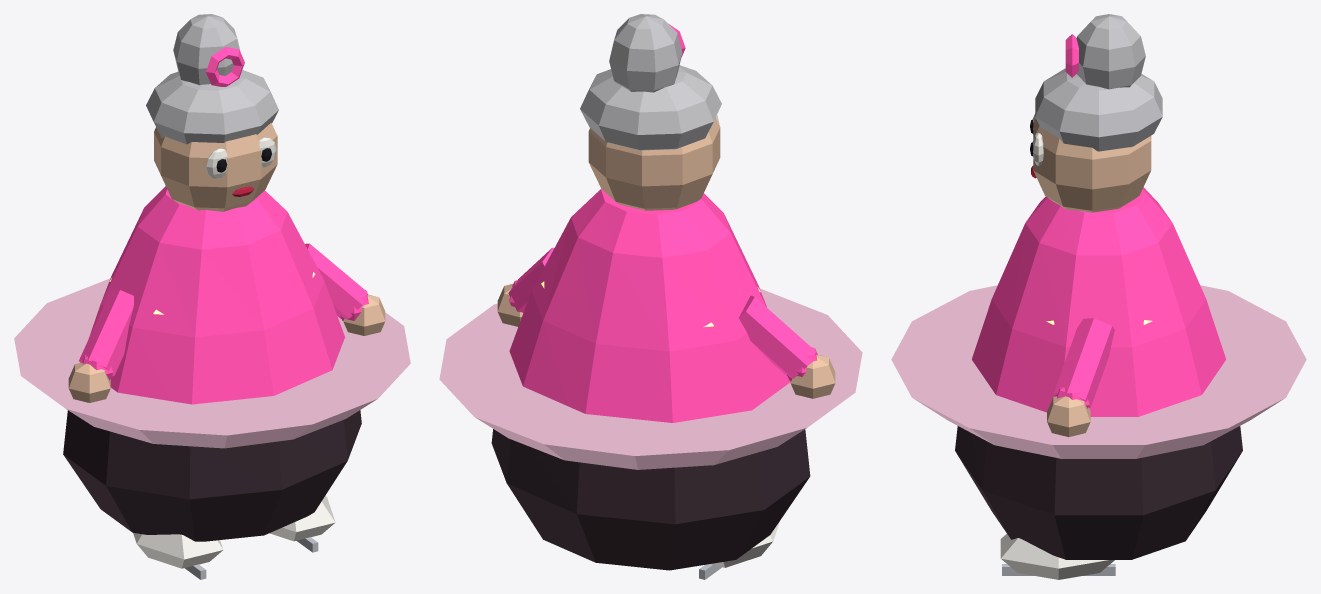
The model's file is npc_dona_pirueta.glb.
The picture shows the model from 3 angles, left to right: view 1: azimuth 30°, elevation 25°; view 2: azimuth 150°, elevation 25°; view 3: azimuth 270°, elevation 25°; orthographic projection. The views are drawn at different scales.
Parts seen in each view (by area): view 1: body_pirueta_leotard, body_pirueta_tights, body_pirueta_tutu, hair_pirueta_hair, head_skin_clara, arms_pirueta_leotard, legs_pirueta_skate, arms_skin_clara, hair_pirueta_leotard, face_white; view 2: body_pirueta_leotard, body_pirueta_tights, body_pirueta_tutu, hair_pirueta_hair, head_skin_clara, arms_pirueta_leotard, arms_skin_clara, legs_pirueta_skate; view 3: body_pirueta_leotard, body_pirueta_tutu, body_pirueta_tights, hair_pirueta_hair, head_skin_clara, arms_pirueta_leotard, legs_pirueta_skate, arms_skin_clara.
Part boxes in pixels (x1,y1,x2,y2): body_pirueta_leotard: (89, 186, 344, 404); body_pirueta_tights: (63, 410, 361, 541); body_pirueta_tutu: (14, 278, 410, 448); hair_pirueta_hair: (146, 14, 278, 144); head_skin_clara: (154, 123, 277, 211); arms_pirueta_leotard: (79, 243, 368, 380); legs_pirueta_skate: (133, 495, 335, 568); arms_skin_clara: (68, 294, 385, 402); hair_pirueta_leotard: (206, 47, 244, 86); face_white: (206, 137, 276, 178); body_pirueta_leotard: (509, 189, 790, 422); body_pirueta_tights: (491, 429, 810, 570); body_pirueta_tutu: (439, 288, 862, 469); hair_pirueta_hair: (580, 14, 721, 150); head_skin_clara: (588, 117, 720, 210); arms_pirueta_leotard: (508, 247, 817, 380); arms_skin_clara: (497, 284, 835, 398); legs_pirueta_skate: (711, 521, 779, 567); body_pirueta_leotard: (972, 187, 1225, 416); body_pirueta_tutu: (891, 285, 1306, 458); body_pirueta_tights: (955, 426, 1242, 559); hair_pirueta_hair: (1035, 14, 1162, 151); head_skin_clara: (1033, 118, 1151, 212); arms_pirueta_leotard: (1054, 318, 1114, 408); legs_pirueta_skate: (1000, 534, 1114, 579); arms_skin_clara: (1047, 396, 1090, 436).
Bounding box in the file's own units: 1.21 × 1.75 × 1.24.
